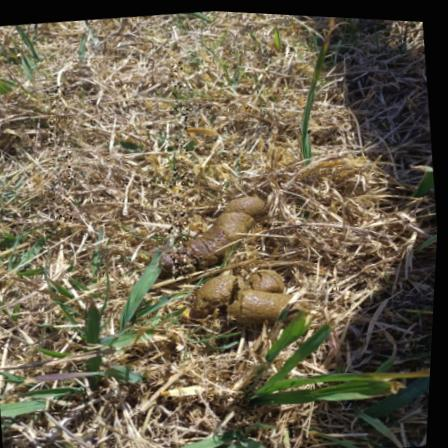dog-poop: (142, 174, 282, 276), (182, 255, 305, 335)
